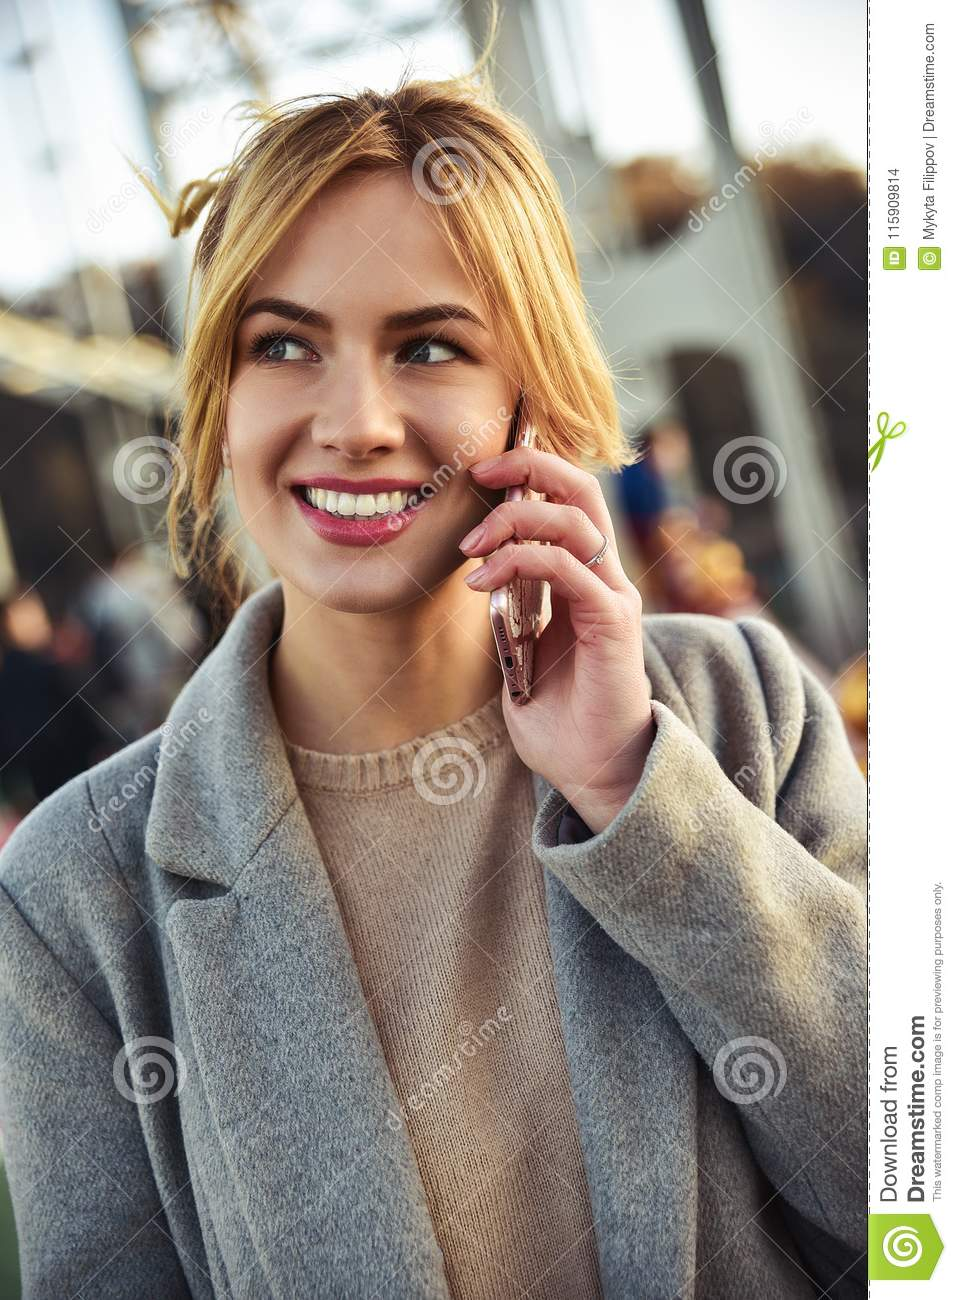phone: (487, 383, 554, 714)
talk: (231, 284, 663, 795)
